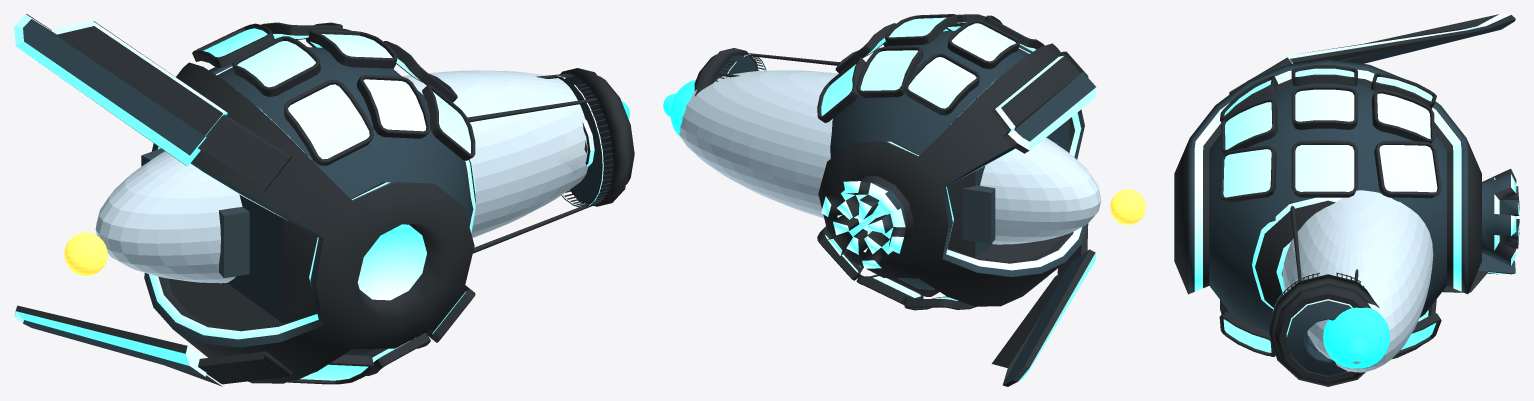
The picture shows the model from 3 angles, left to right: view 1: azimuth 30°, elevation 25°; view 2: azimuth 150°, elevation 25°; view 3: azimuth 270°, elevation 25°; orthographic projection. The views are drawn at different scales.
Parts seen in each view (by area): view 1: AI_PM_airship_cruiser_body, AI_PM_airship_visible_silver_hull, AI_PM_airship_cruiser_body_Aero_airship_screens_01, AI_PM_airship_cruiser_body_Aero_airship_wing_01, AI_PM_airship_cruiser_body_Aero_airship_wing_02, AI_PM_airship_cruiser_body_Aero_airship_base_01, AI_PM_airship_lower_fin, AI_PM_airship_rear_thruster; view 2: AI_PM_airship_cruiser_body, AI_PM_airship_visible_silver_hull, AI_PM_airship_cruiser_body_Aero_airship_screens_01, AI_PM_airship_cruiser_body_Aero_airship_wing_01, AI_PM_airship_cruiser_body_Aero_airship_wing_02, AI_PM_airship_upper_fin, AI_PM_airship_cruiser_body_Aero_airship_base_01, AI_PM_airship_rear_thruster, AI_PM_airship_blue_nose_cap; view 3: AI_PM_airship_cruiser_body, AI_PM_airship_cruiser_body_Aero_airship_screens_01, AI_PM_airship_visible_silver_hull, AI_PM_airship_cruiser_body_Aero_airship_base_01, AI_PM_airship_cruiser_body_Aero_airship_wing_01, AI_PM_airship_blue_nose_cap, AI_PM_airship_cruiser_body_Aero_airship_wing_02, AI_PM_airship_front_light.
Boxes of the visible parts, x1=… form: AI_PM_airship_cruiser_body: x1=144, y1=47, x2=596, y2=383; AI_PM_airship_visible_silver_hull: x1=95, y1=70, x2=588, y2=283; AI_PM_airship_cruiser_body_Aero_airship_screens_01: x1=192, y1=22, x2=475, y2=384; AI_PM_airship_cruiser_body_Aero_airship_wing_01: x1=14, y1=14, x2=291, y2=190; AI_PM_airship_cruiser_body_Aero_airship_wing_02: x1=14, y1=305, x2=291, y2=386; AI_PM_airship_cruiser_body_Aero_airship_base_01: x1=553, y1=68, x2=634, y2=207; AI_PM_airship_lower_fin: x1=219, y1=207, x2=249, y2=277; AI_PM_airship_rear_thruster: x1=64, y1=232, x2=107, y2=275; AI_PM_airship_cruiser_body: x1=718, y1=30, x2=1087, y2=306; AI_PM_airship_visible_silver_hull: x1=679, y1=70, x2=1101, y2=244; AI_PM_airship_cruiser_body_Aero_airship_screens_01: x1=817, y1=14, x2=1044, y2=310; AI_PM_airship_cruiser_body_Aero_airship_wing_01: x1=992, y1=51, x2=1096, y2=153; AI_PM_airship_cruiser_body_Aero_airship_wing_02: x1=991, y1=224, x2=1096, y2=386; AI_PM_airship_upper_fin: x1=961, y1=185, x2=995, y2=243; AI_PM_airship_cruiser_body_Aero_airship_base_01: x1=694, y1=48, x2=766, y2=96; AI_PM_airship_rear_thruster: x1=1110, y1=189, x2=1145, y2=224; AI_PM_airship_blue_nose_cap: x1=670, y1=80, x2=695, y2=137; AI_PM_airship_cruiser_body: x1=1174, y1=59, x2=1519, y2=330; AI_PM_airship_cruiser_body_Aero_airship_screens_01: x1=1219, y1=65, x2=1441, y2=358; AI_PM_airship_visible_silver_hull: x1=1282, y1=190, x2=1433, y2=372; AI_PM_airship_cruiser_body_Aero_airship_base_01: x1=1269, y1=272, x2=1379, y2=386; AI_PM_airship_cruiser_body_Aero_airship_wing_01: x1=1229, y1=14, x2=1515, y2=94; AI_PM_airship_blue_nose_cap: x1=1323, y1=306, x2=1390, y2=368; AI_PM_airship_cruiser_body_Aero_airship_wing_02: x1=1442, y1=253, x2=1515, y2=292; AI_PM_airship_front_light: x1=1344, y1=337, x2=1368, y2=361.
Size of the model in its own units: 1.15 by 0.6326 by 0.7156.
Materials: 10 (4 with a texture image).
